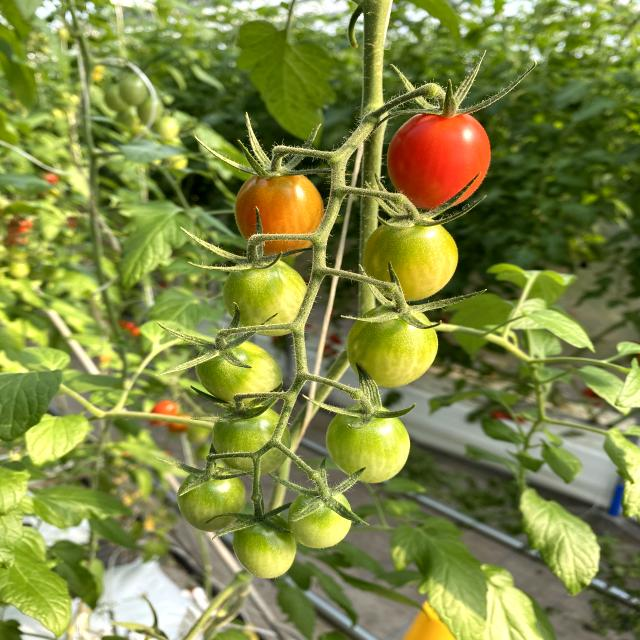ripe0: (350, 303, 438, 390), (326, 403, 410, 484), (197, 337, 282, 401), (178, 468, 246, 532), (232, 517, 297, 579), (290, 487, 352, 548)
ripe1: (233, 166, 323, 233)
ripe2: (385, 112, 492, 207)
